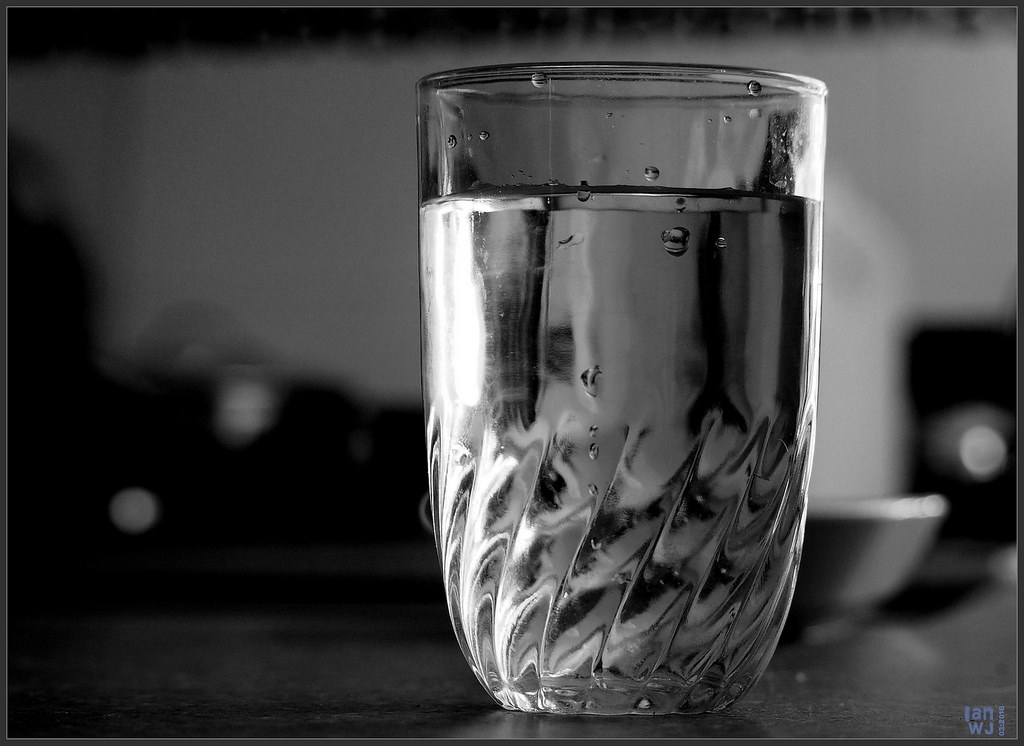glass of water: (432, 75, 814, 709)
